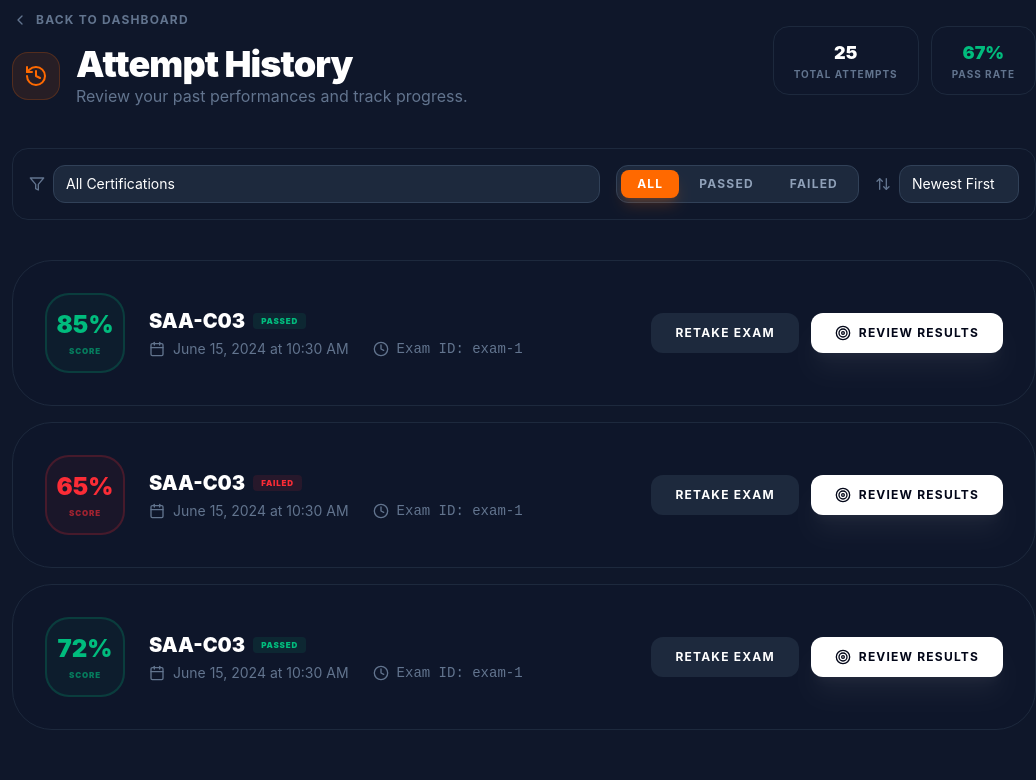
Test: History Page › Error and empty states › shows "No matching attempts" when filters return empty
This screenshot has width=1036, height=780.
Click the button with aria-label "filter by failed" at x=814, y=184, box [774,170,854,198]
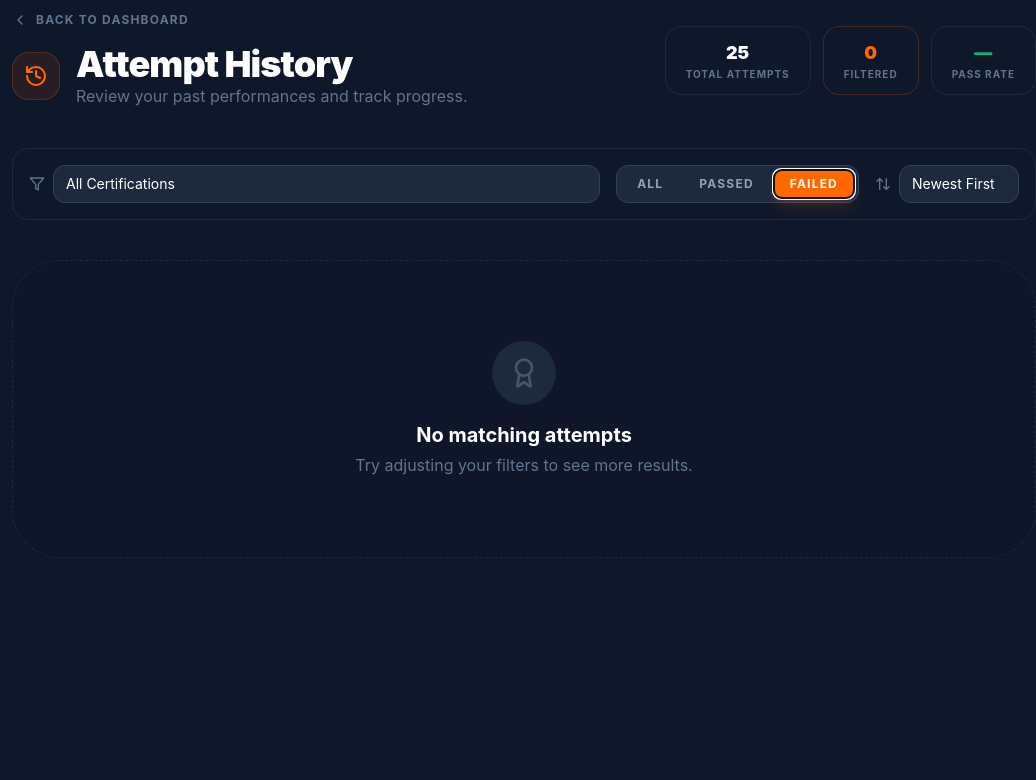
Expected: the heading "No matching attempts" is shown, [416,423,632,447]
